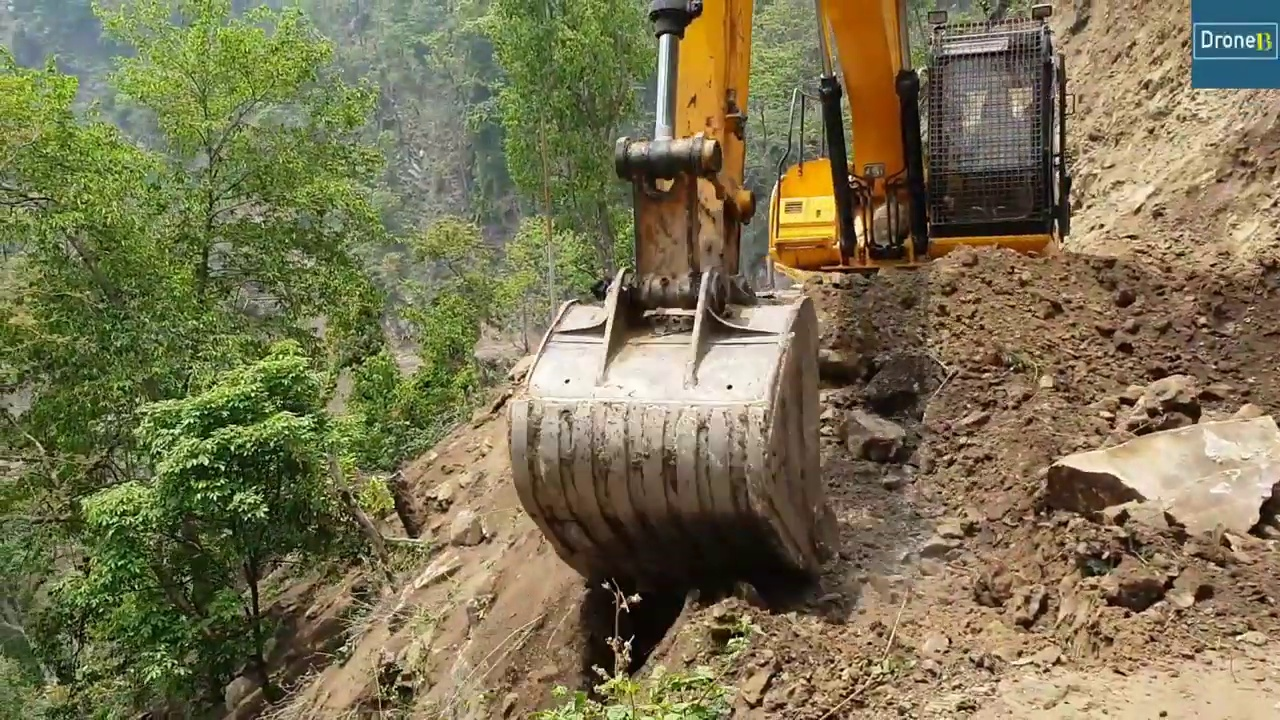excavator: (509, 4, 1072, 594)
